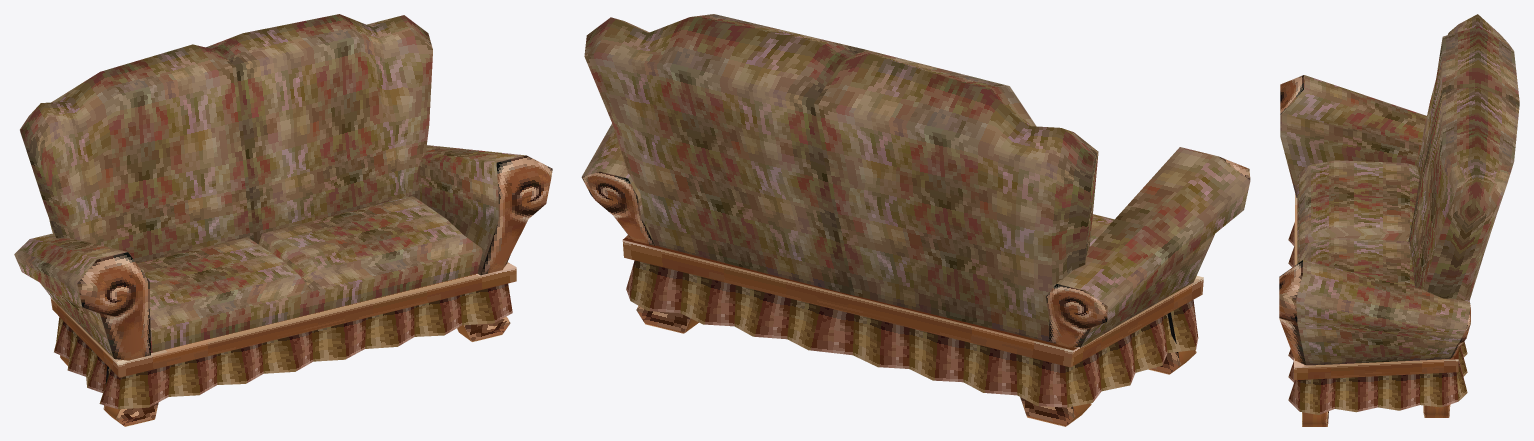
File: o-sofa2.glb
3 views of the same model, side by side, from view 1: azimuth 30°, elevation 25°; view 2: azimuth 150°, elevation 25°; view 3: azimuth 270°, elevation 25° (orthographic). The views are drawn at different scales.
Visible parts, largest first — view 1: o_sofa2; view 2: o_sofa2; view 3: o_sofa2.
Part boxes in pixels (box(x1,y1,x2,y2)): o_sofa2: box(14, 14, 552, 426); o_sofa2: box(581, 14, 1250, 426); o_sofa2: box(1279, 14, 1519, 426).
Bounding box in the file's own units: 459 × 255 × 212.
5 materials, 5 textured.
